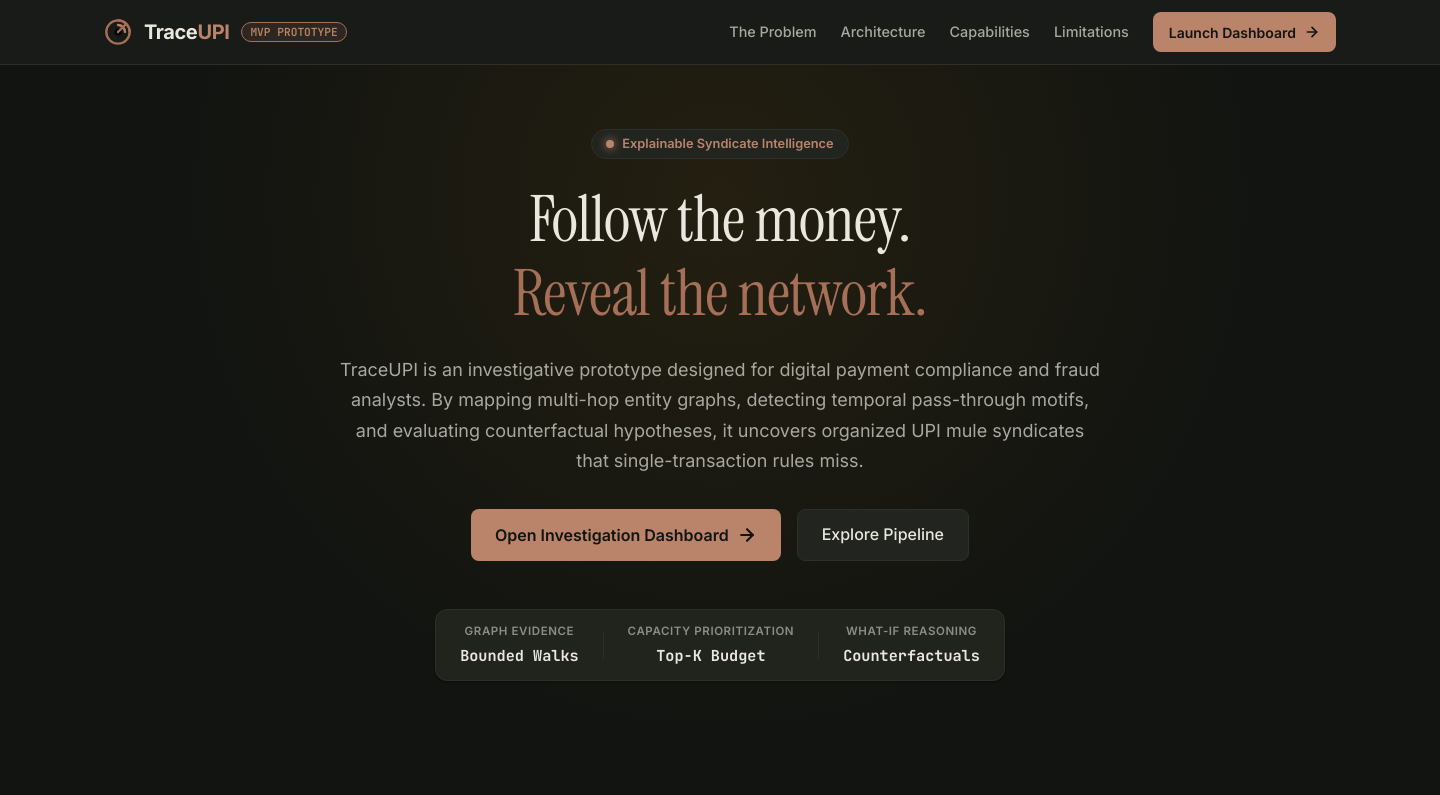
TraceUPI Milestone 1: Landing Page & Navigation › navigates from landing page to dashboard placeholder and back
The image size is (1440, 795).
Expected: the heading "Follow the money. Reveal the network." is shown, [513,184,927,331]
Click primary hero CTA
What coordinates should you click on to do the following:
click the button "Open Investigation Dashboard"
I would click on:
 (626, 535)
Its box is [471,509,781,561].
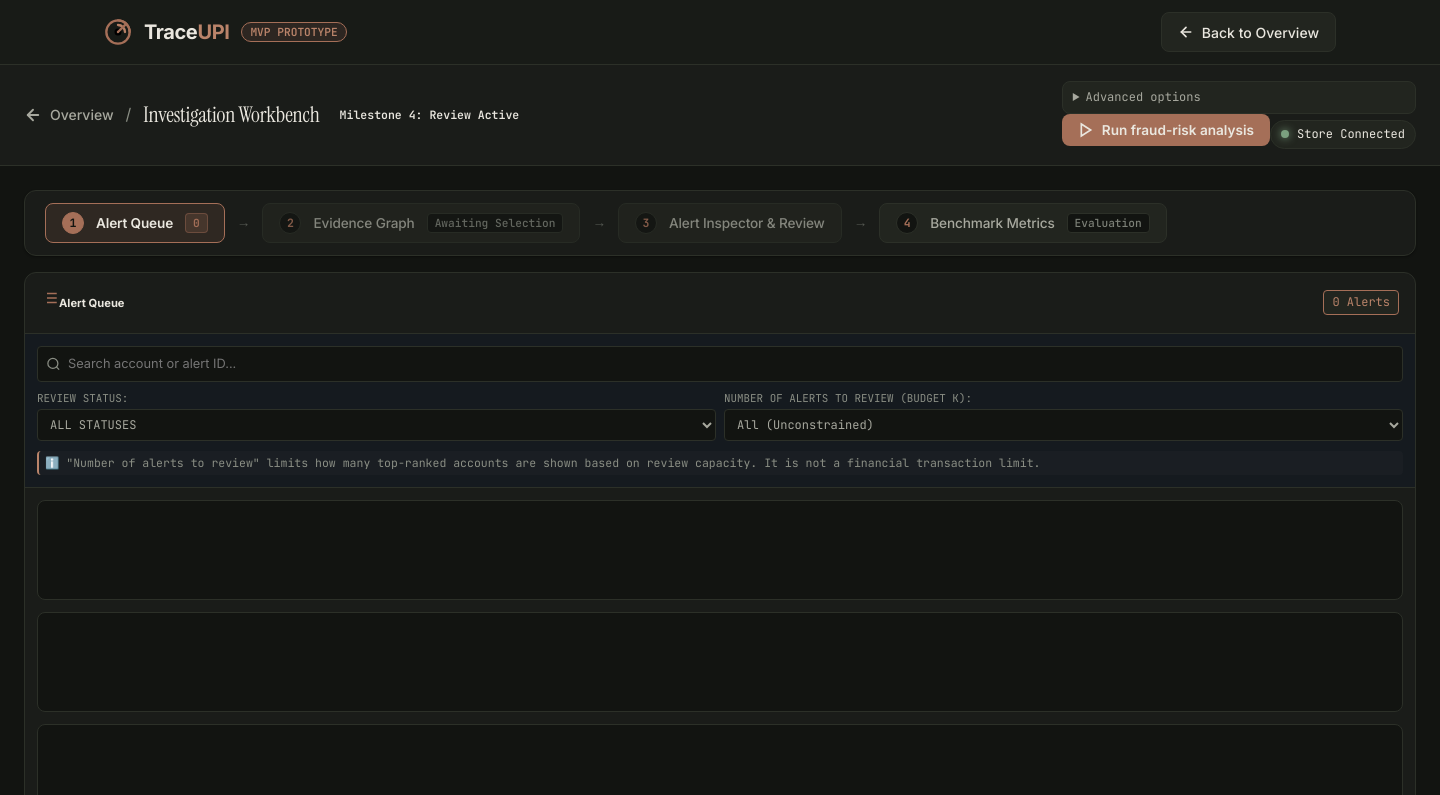
Expected: the heading "Investigation Workbench" is shown, [143,98,320,132]
Expected: the text "Milestone 4: Review Active" is shown, [332,104,527,126]
Click Back to Overview
What coordinates should you click on to do the following:
click the button with aria-label "Back to landing page overview"
I would click on:
 (69, 115)
Its box is [24,106,114,124].
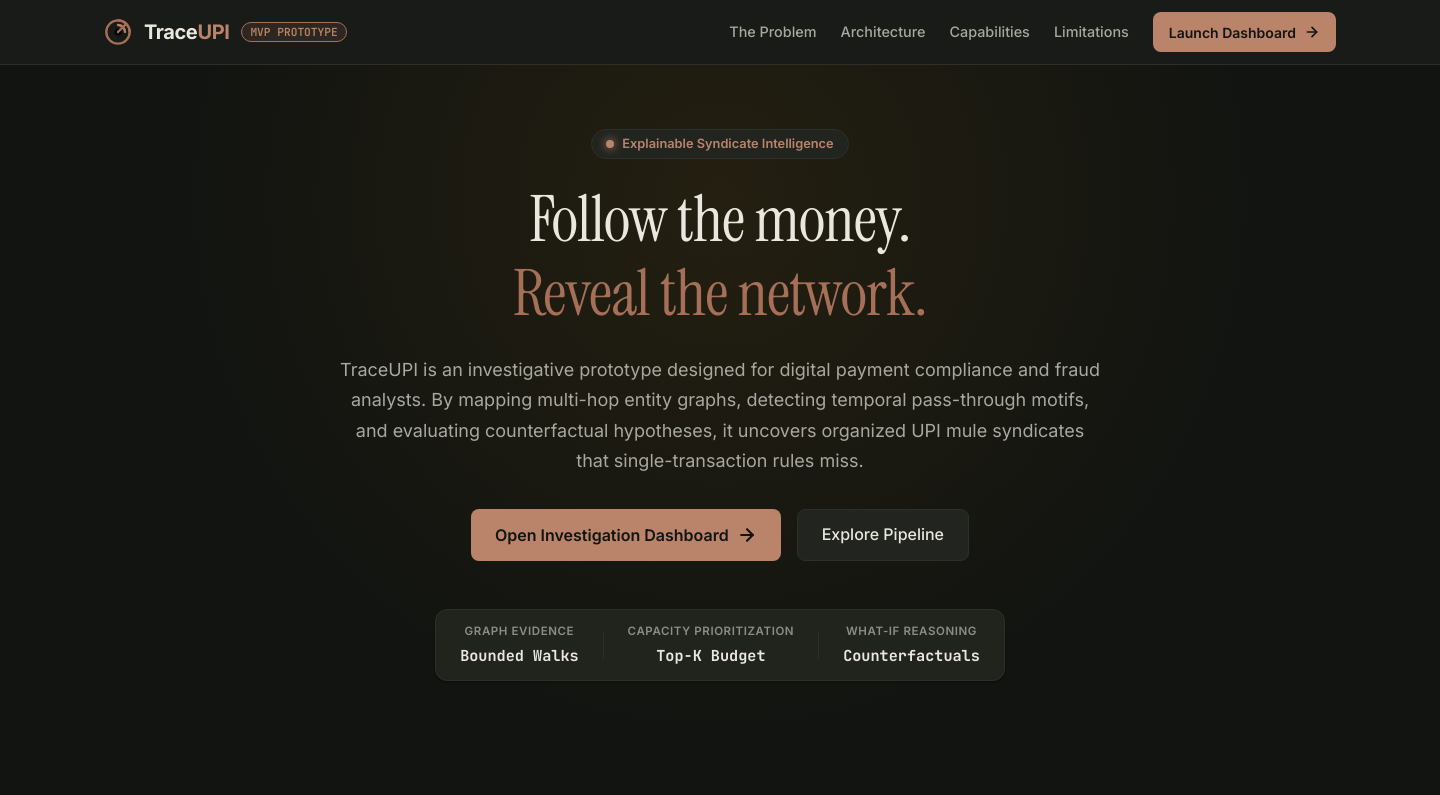
Expected: the heading "Follow the money. Reveal the network." is shown, [513,184,927,331]
